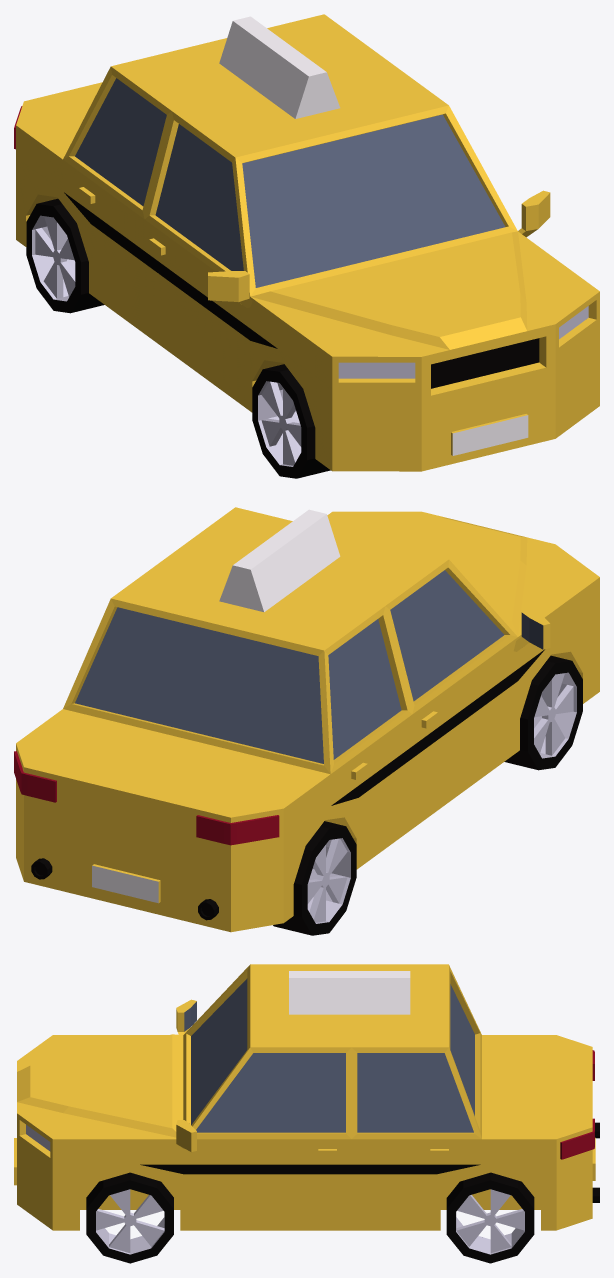
Rendered from taxi.glb.
The picture shows the model from 3 angles, top to bottom: view 1: azimuth 30°, elevation 25°; view 2: azimuth 150°, elevation 25°; view 3: azimuth 270°, elevation 25°; orthographic projection. The views are drawn at different scales.
Parts seen in each view (by area): view 1: body; view 2: body; view 3: body.
Boxes of the visible parts, x1=… form: body: x1=14, y1=14, x2=599, y2=478; body: x1=14, y1=507, x2=599, y2=935; body: x1=14, y1=964, x2=599, y2=1263.
Size of the model in its own units: 2.81 by 2.32 by 5.23.
